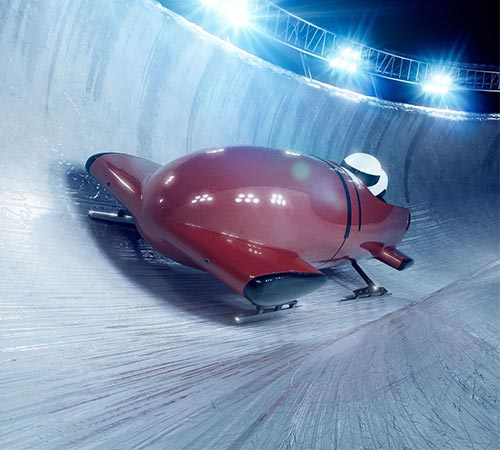Bobsleigh: (86, 146, 413, 309)
